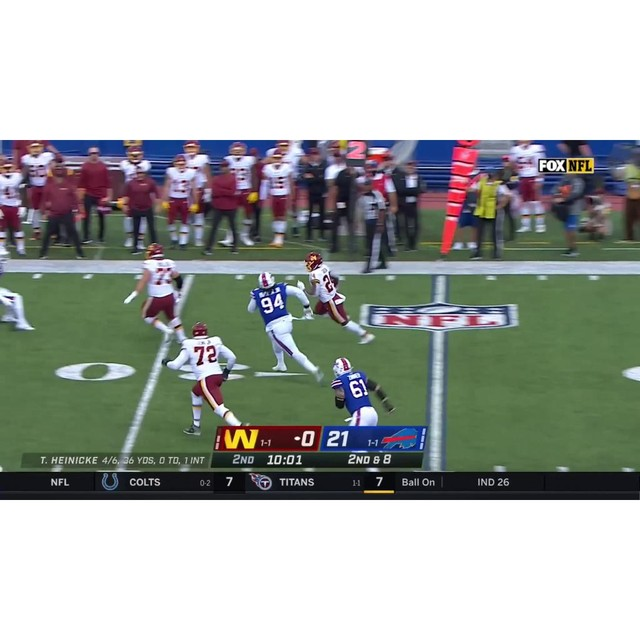american-football-player: (165, 320, 242, 435), (247, 272, 322, 382), (123, 241, 189, 359), (304, 251, 376, 345), (330, 357, 393, 427), (0, 236, 38, 334)
referee: (358, 182, 391, 275)
